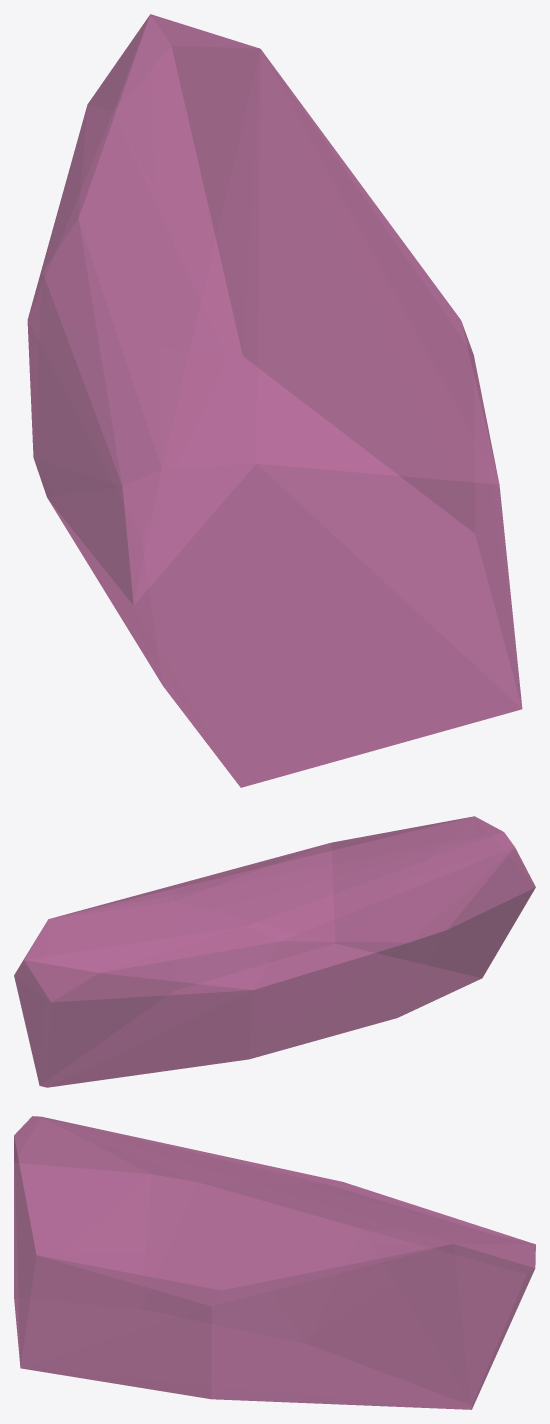
The picture shows the model from 3 angles, top to bottom: view 1: azimuth 30°, elevation 25°; view 2: azimuth 150°, elevation 25°; view 3: azimuth 270°, elevation 25°; orthographic projection. The views are drawn at different scales.
Parts seen in each view (by area): view 1: Shape_IndexedFaceSet.007_Shape_IndexedFaceSet.10832; view 2: Shape_IndexedFaceSet.007_Shape_IndexedFaceSet.10832; view 3: Shape_IndexedFaceSet.007_Shape_IndexedFaceSet.10832.
Part boxes in pixels (<box>): Shape_IndexedFaceSet.007_Shape_IndexedFaceSet.10832: <box>27,14,522,787</box>; Shape_IndexedFaceSet.007_Shape_IndexedFaceSet.10832: <box>14,816,535,1087</box>; Shape_IndexedFaceSet.007_Shape_IndexedFaceSet.10832: <box>14,1116,535,1409</box>.
Bounding box in the file's own units: 0.3423 × 0.1902 × 0.5418.
